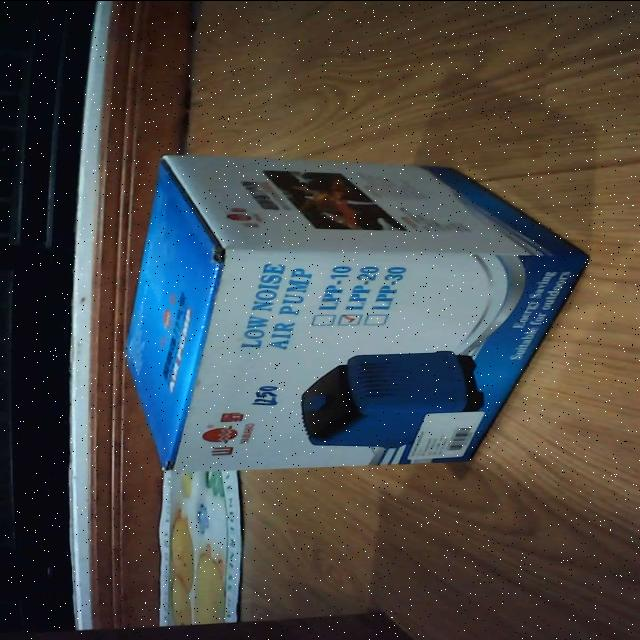YAMANO_LPP_20: (109, 140, 601, 477)
